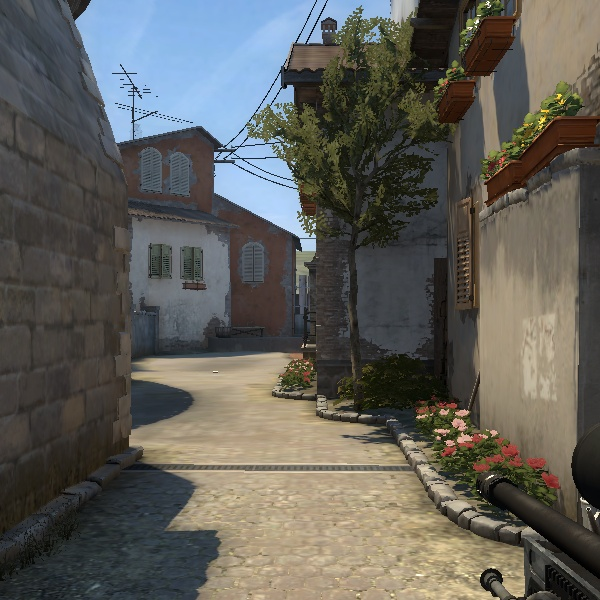ct_body: (273, 348, 324, 398)
